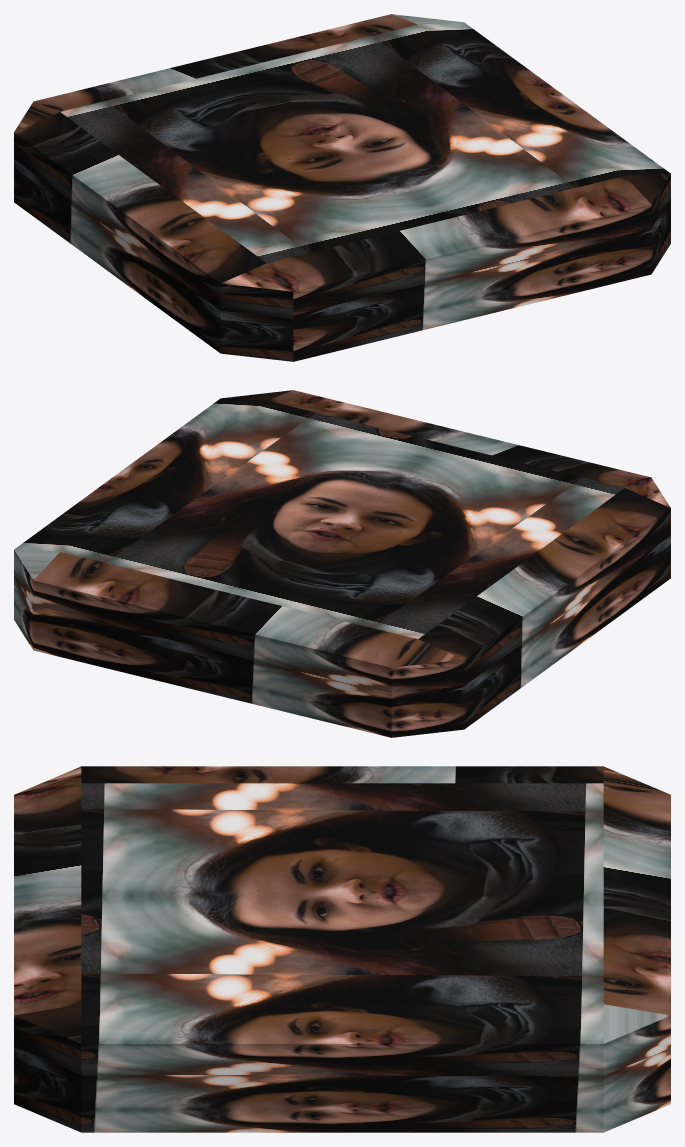
Rendered from runejeanne.obj.
The picture shows the model from 3 angles, top to bottom: view 1: azimuth 30°, elevation 25°; view 2: azimuth 150°, elevation 25°; view 3: azimuth 270°, elevation 25°; orthographic projection. The views are drawn at different scales.
Visible parts, largest first — view 1: Cube_Cube.001; view 2: Cube_Cube.001; view 3: Cube_Cube.001.
Part boxes in pixels (<box>): Cube_Cube.001: <box>14,14,670,361</box>; Cube_Cube.001: <box>14,390,670,737</box>; Cube_Cube.001: <box>14,766,670,1132</box>.
Bounding box in the file's own units: 3.27 × 0.6113 × 3.27.
